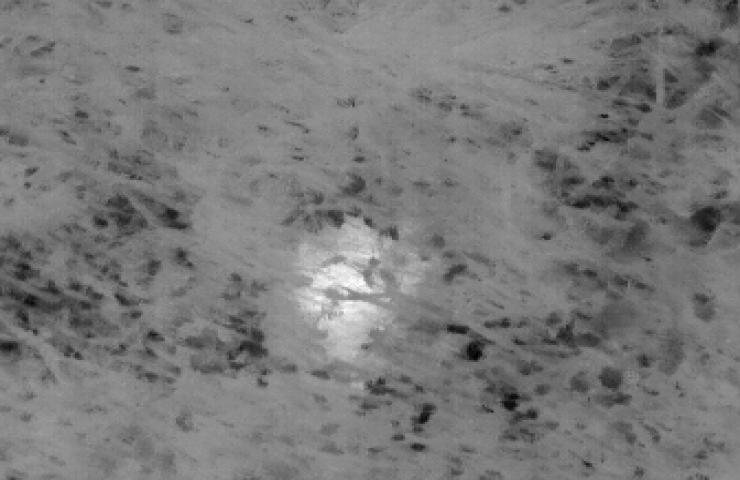landmines: (296, 222, 425, 353)
